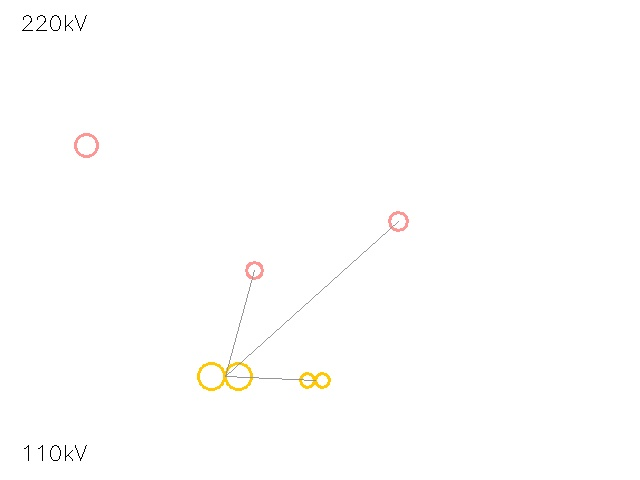current_transformer: (64, 123, 108, 167)
reactor: (379, 202, 417, 240)
transformer_2w: (192, 343, 258, 409), (297, 362, 333, 398)
voltage_transformer: (238, 254, 270, 286)
